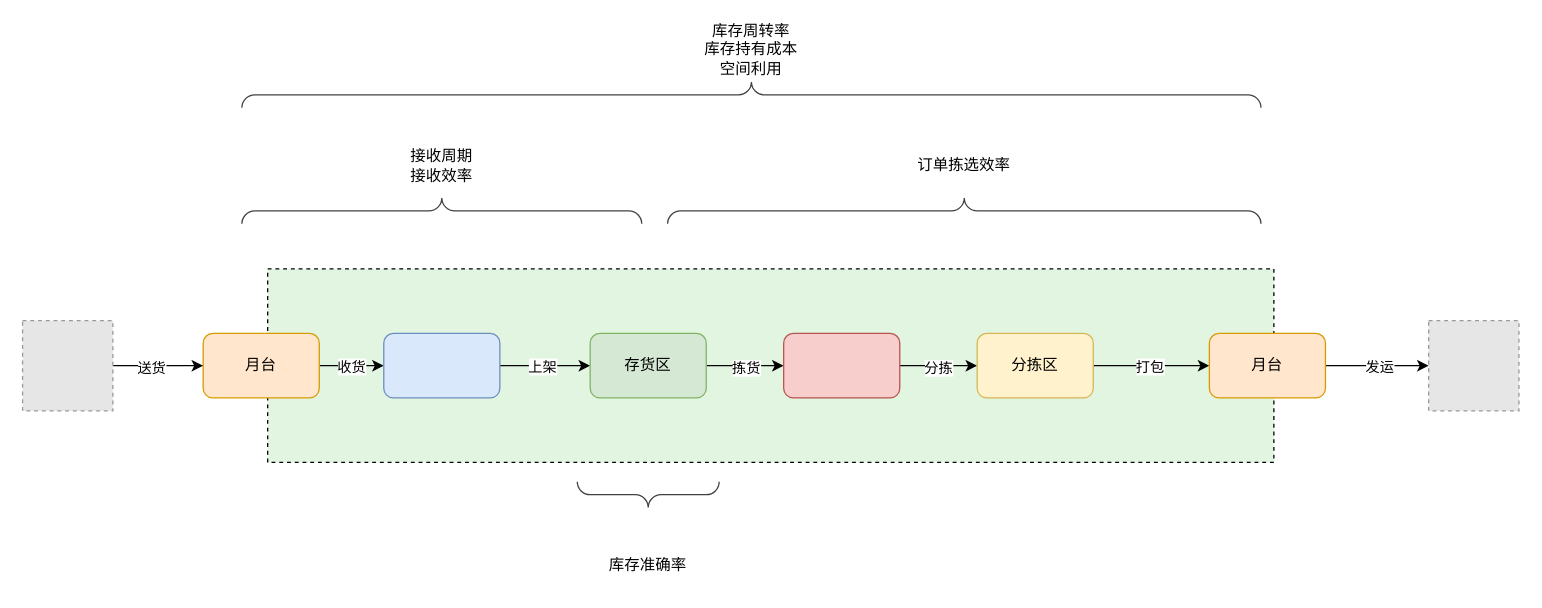
This 1542x608 diagram has some shape labels left out. Grey dashed boxes stand in for pictures. Each missing label, with the box of its shape:
拣货区: (782, 332, 900, 398)
收货暂存区: (382, 332, 500, 398)
